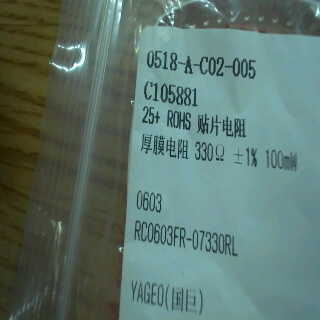330R: (190, 139, 233, 165)
